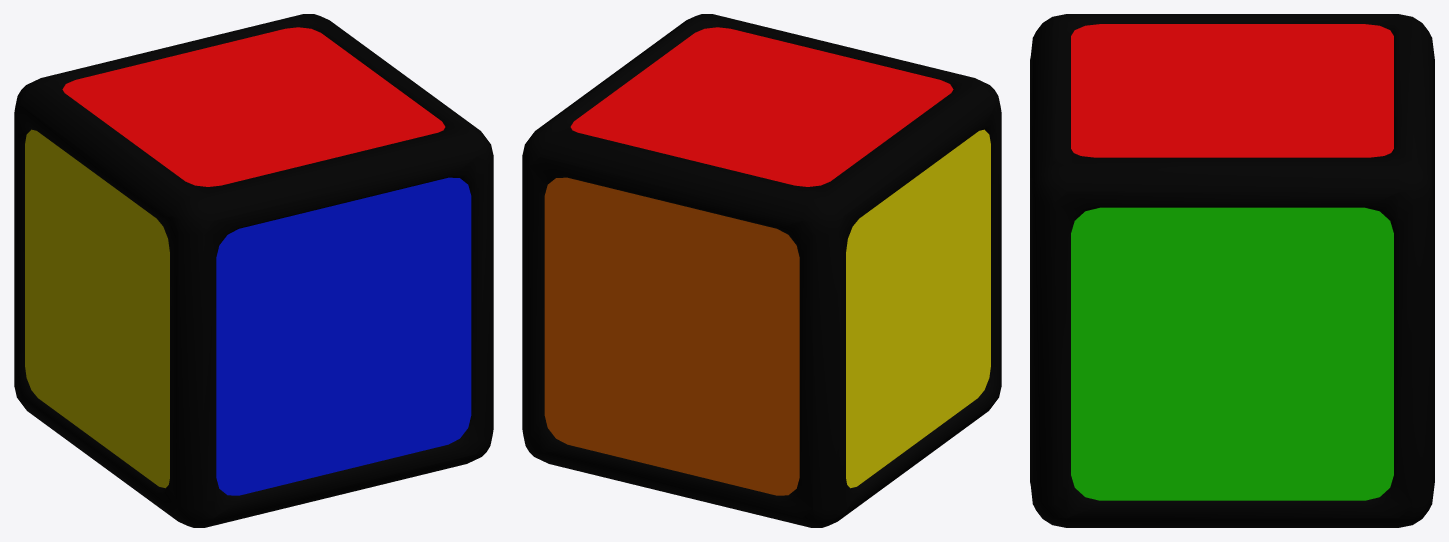
The picture shows the model from 3 angles, left to right: view 1: azimuth 30°, elevation 25°; view 2: azimuth 150°, elevation 25°; view 3: azimuth 270°, elevation 25°; orthographic projection. The views are drawn at different scales.
Visible parts, largest first — view 1: Cube; view 2: Cube; view 3: Cube.
Part boxes in pixels (left/top/right/bottom): Cube: left=14, top=14, right=493, bottom=527; Cube: left=522, top=14, right=1001, bottom=527; Cube: left=1030, top=14, right=1434, bottom=527.
Bounding box in the file's own units: 2 × 2 × 2.
